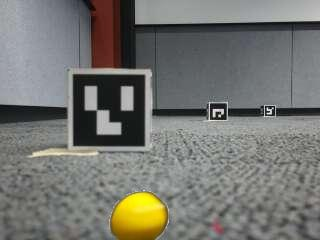lemon: (110, 193, 166, 240)
